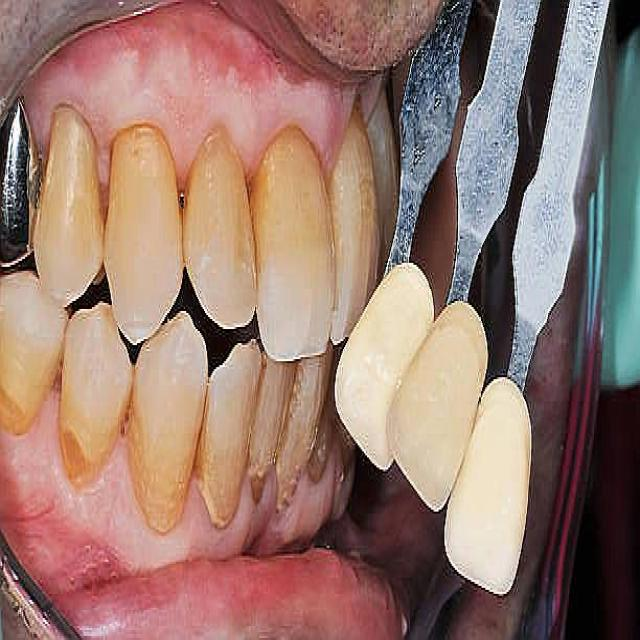caries: (56, 419, 99, 490), (0, 381, 32, 447), (248, 448, 275, 512)
